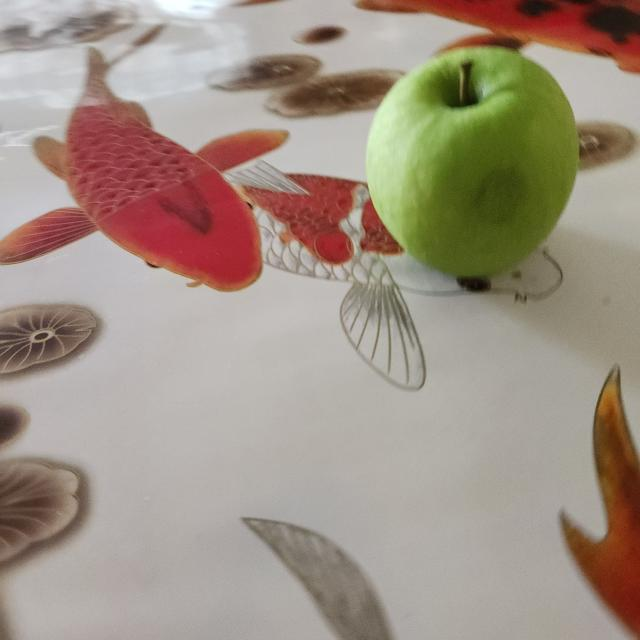apple: (357, 36, 593, 287)
